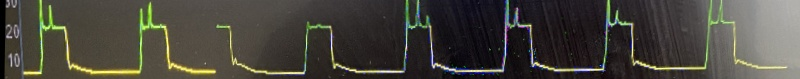hydrop_pressure: (370, 0, 800, 79), (22, 0, 207, 79)
normal_pressure: (226, 11, 378, 79)
